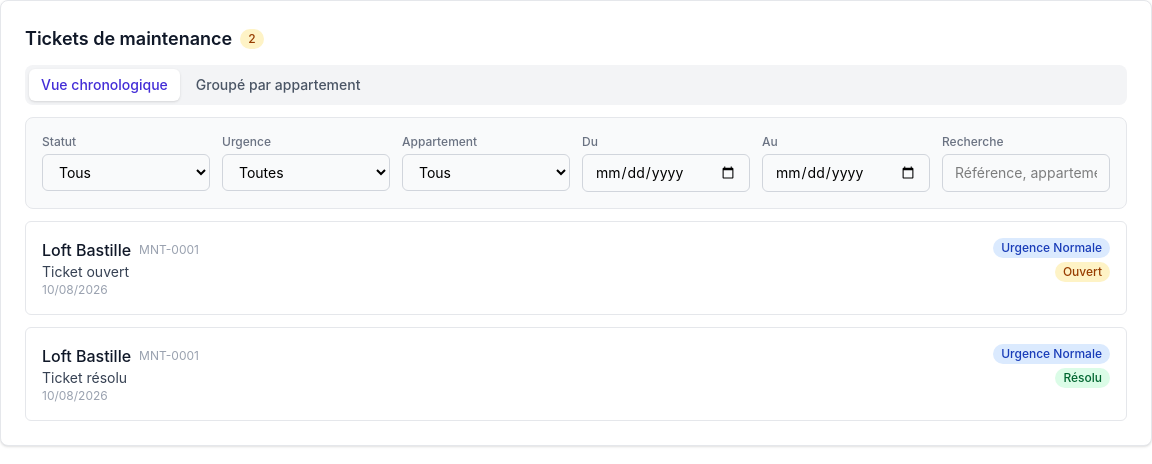
TicketsMaintenanceSection › filtre les tickets par statut
This screenshot has width=1152, height=464.
Check: the text "Ticket ouvert" is shown, box [42,263,129,280]
Select "Résolu" in the dropdown labelled "Statut". click: (126, 172)
box: [42,154,210,191]
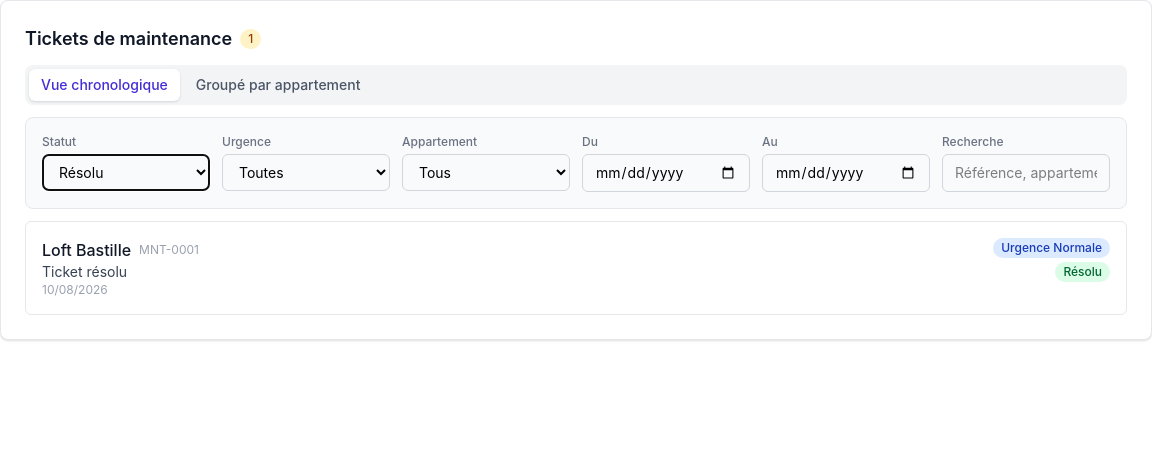
Check: the text "Ticket résolu" is shown, box [42,263,127,280]
Check: the button "Ticket ouvert" is gone
